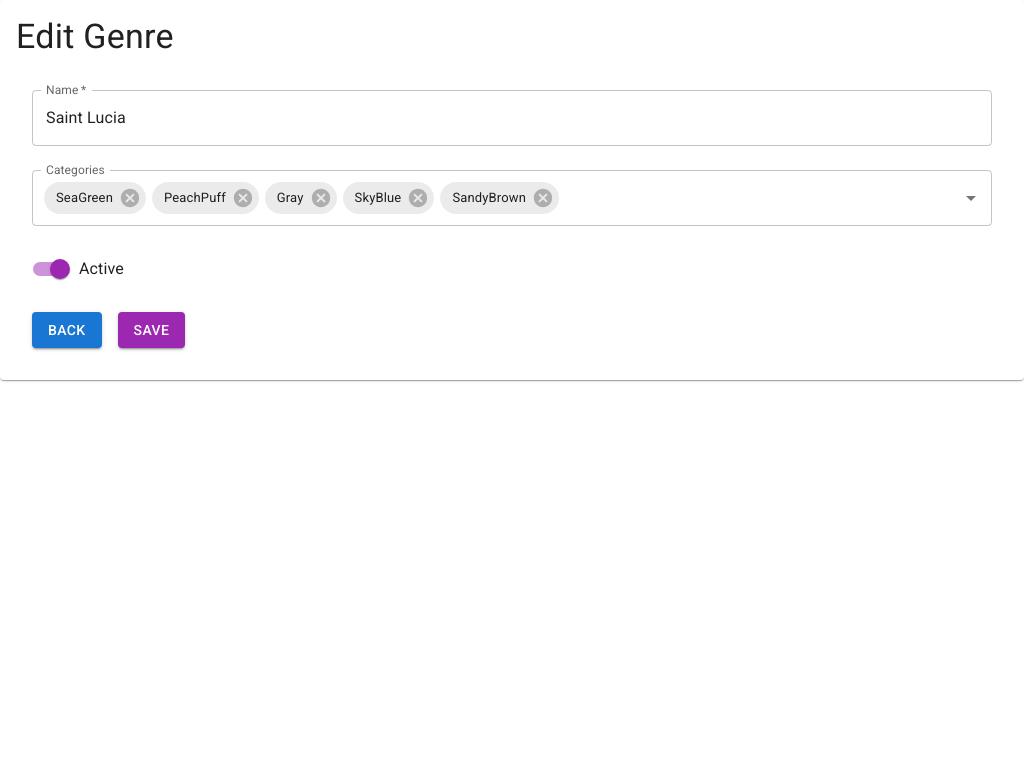
Test: Test EditGenre page › should handle submit
Replace the text in the field with test id "name-input" with "Test Name" at (512, 118), box [32,90,992,146]
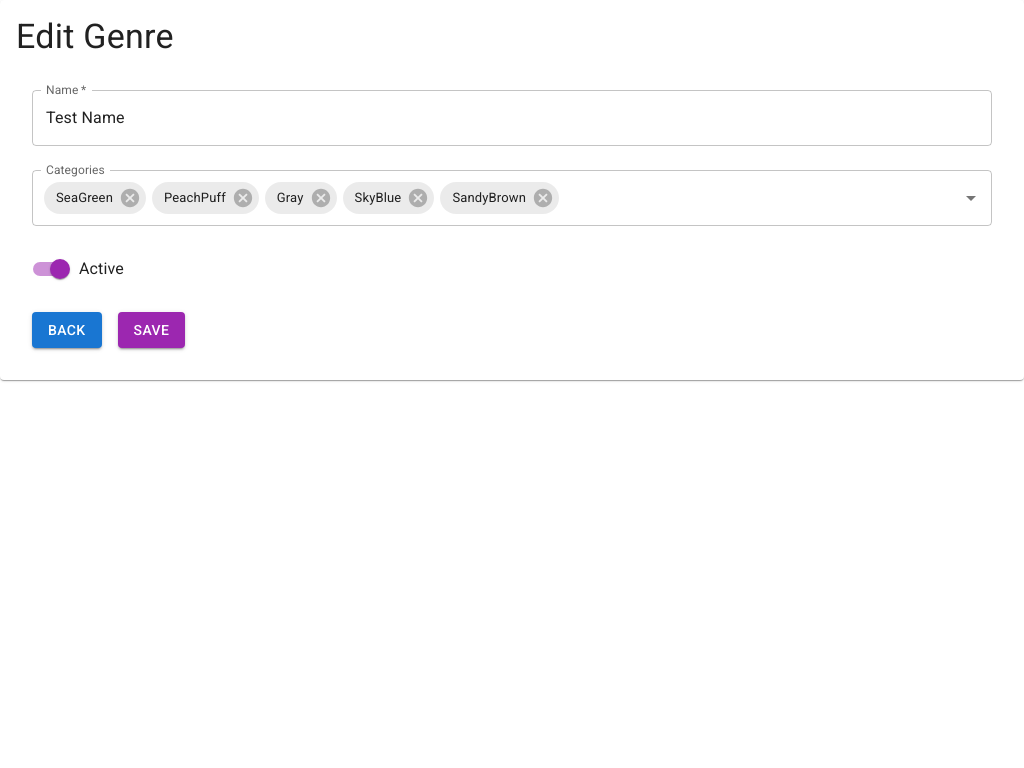
Click the button "Save" at (152, 330), box [118,312,185,348]
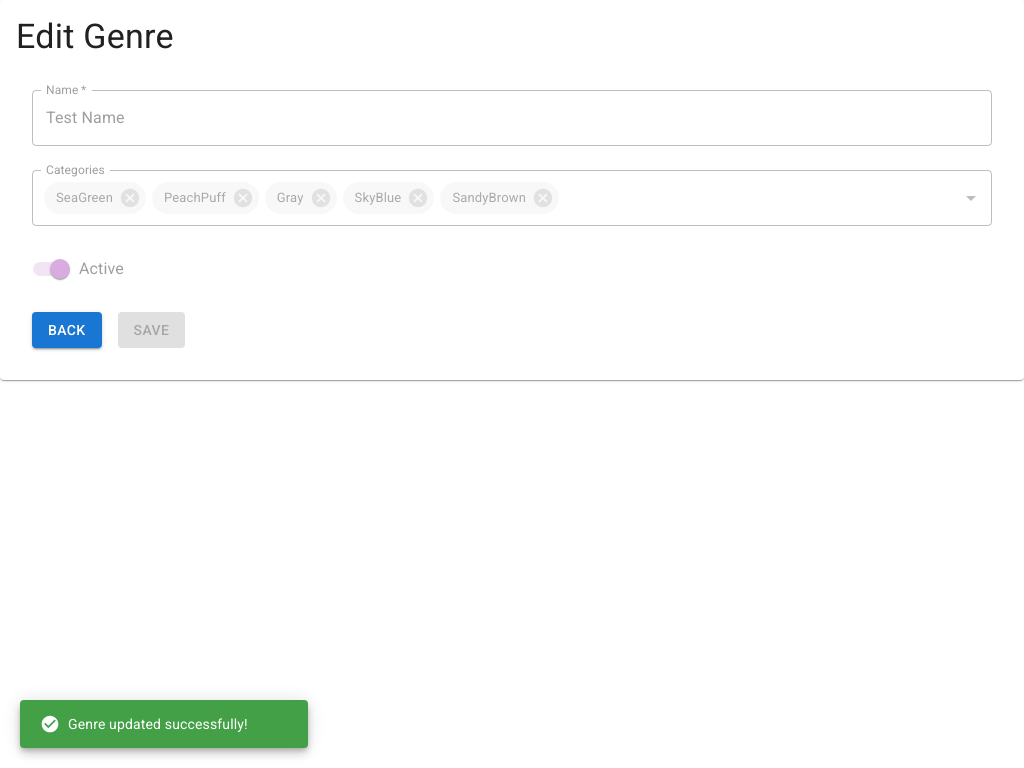
Expected: the text "Genre updated successfully!" is shown, [40,714,248,734]
